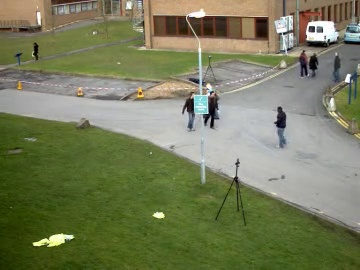person: (182, 89, 196, 131), (181, 89, 195, 130), (182, 91, 196, 132)
